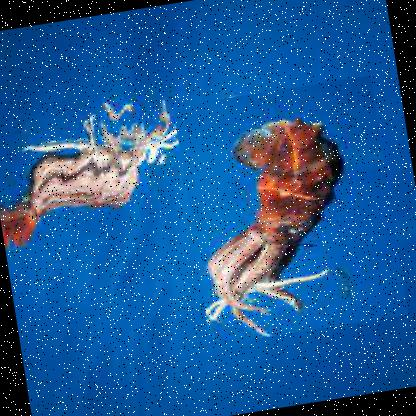colossal_squid: (172, 74, 408, 345)
